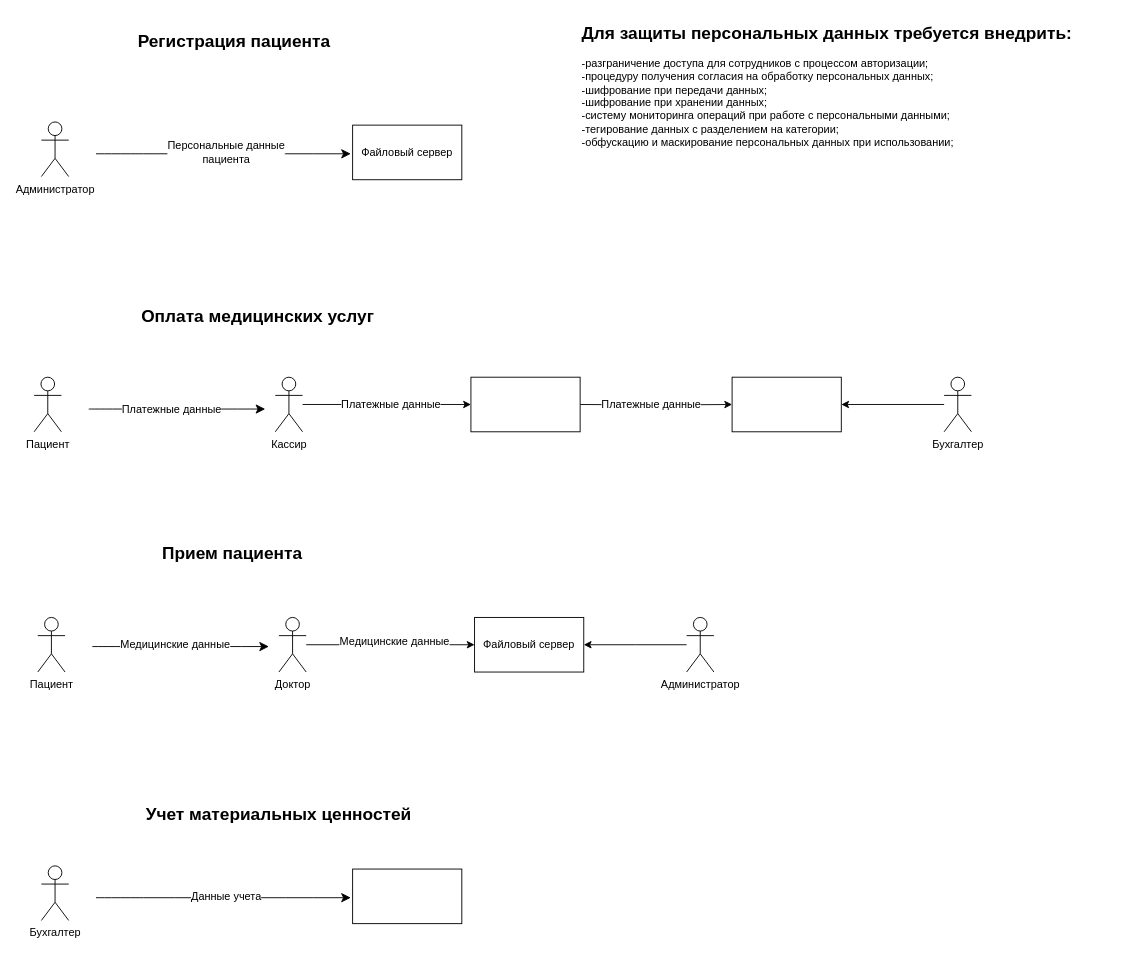
Image size: 1130x955. Some labels were removed from this diagram. The shapes that lost their labels are listed below. From the top down, each one's centre as x and y in pixels, then its label:
At [525,404]: "ККМ".
At [786,404]: "1С Бухгалтерия предприятия".
At [407,896]: "1С Торговля и склад".
